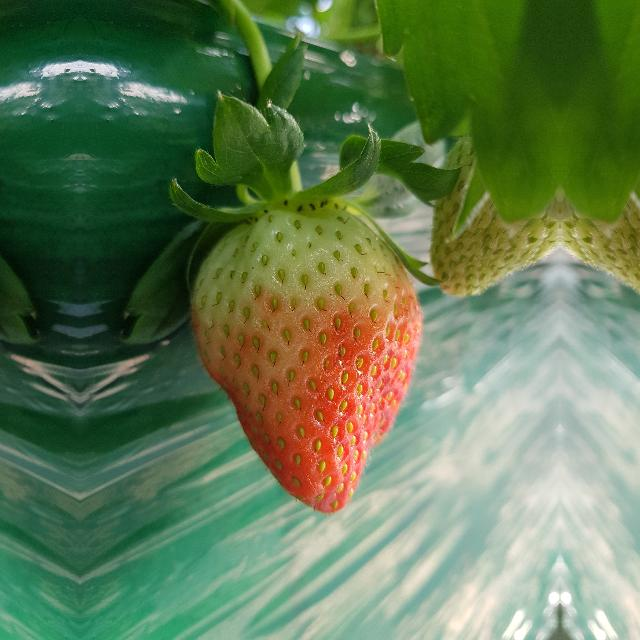Health_25: (432, 128, 560, 302), (560, 128, 640, 301)
Health_75: (186, 206, 420, 514)
